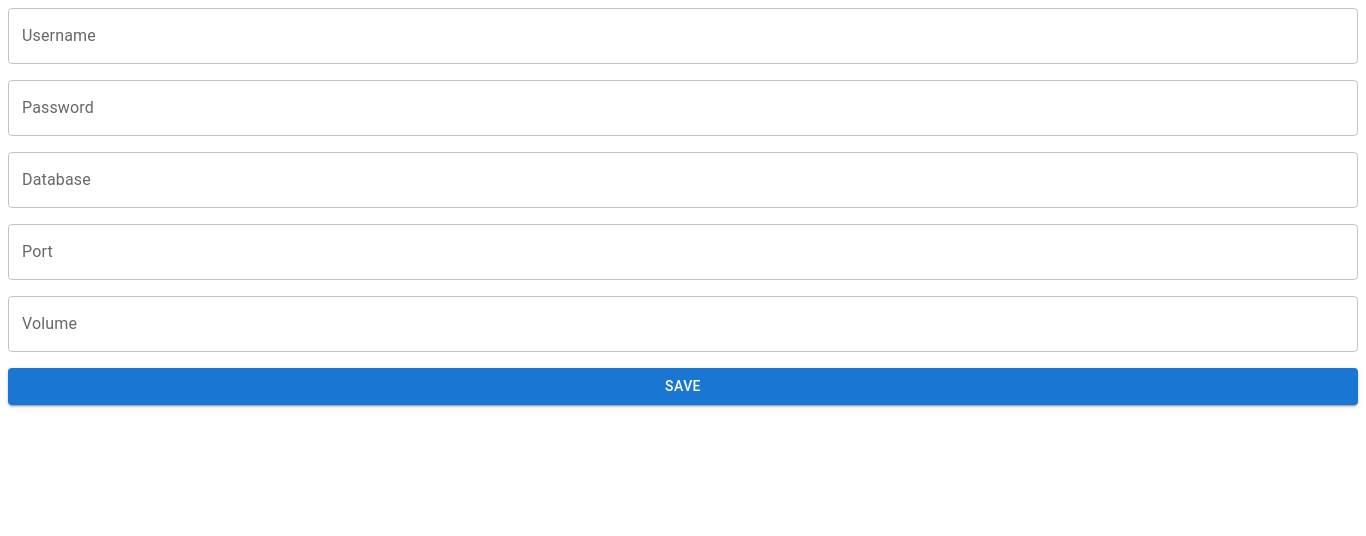
it: PostgreSqlDockerComposeForm › should show error messages when form is empty and submitted
Click the button "Save": x=683, y=386 [8,368,1358,404]
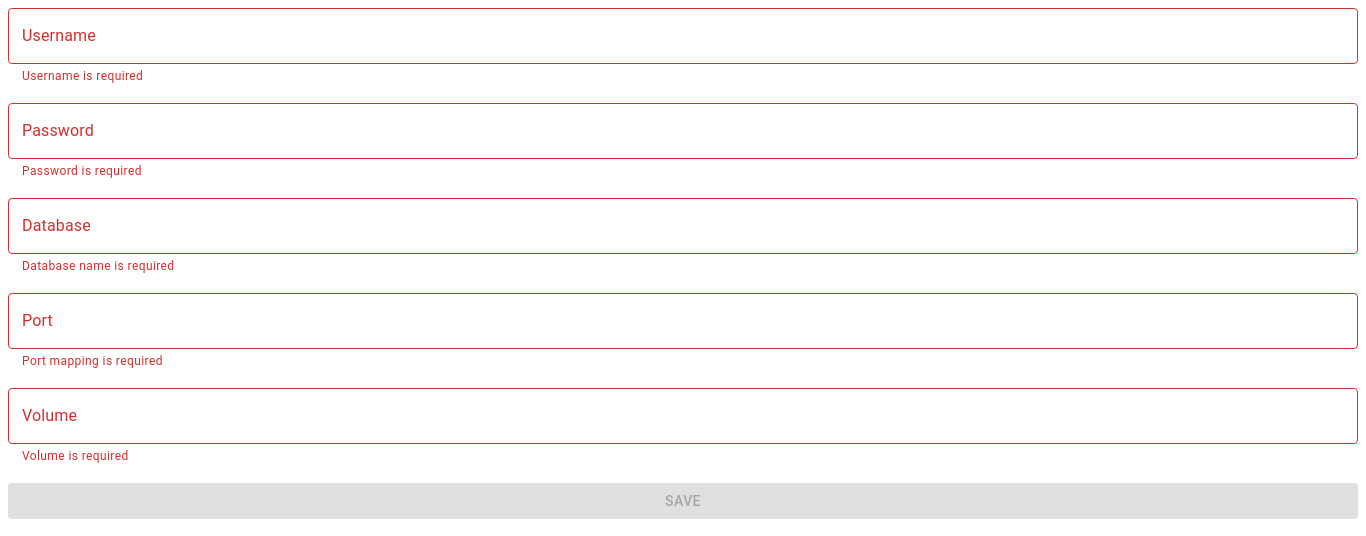
Expected: the text "Username is required" is shown, [22,69,143,83]
Expected: the text "Password is required" is shown, [22,164,142,178]
Expected: the text "Database name is required" is shown, [22,259,174,273]
